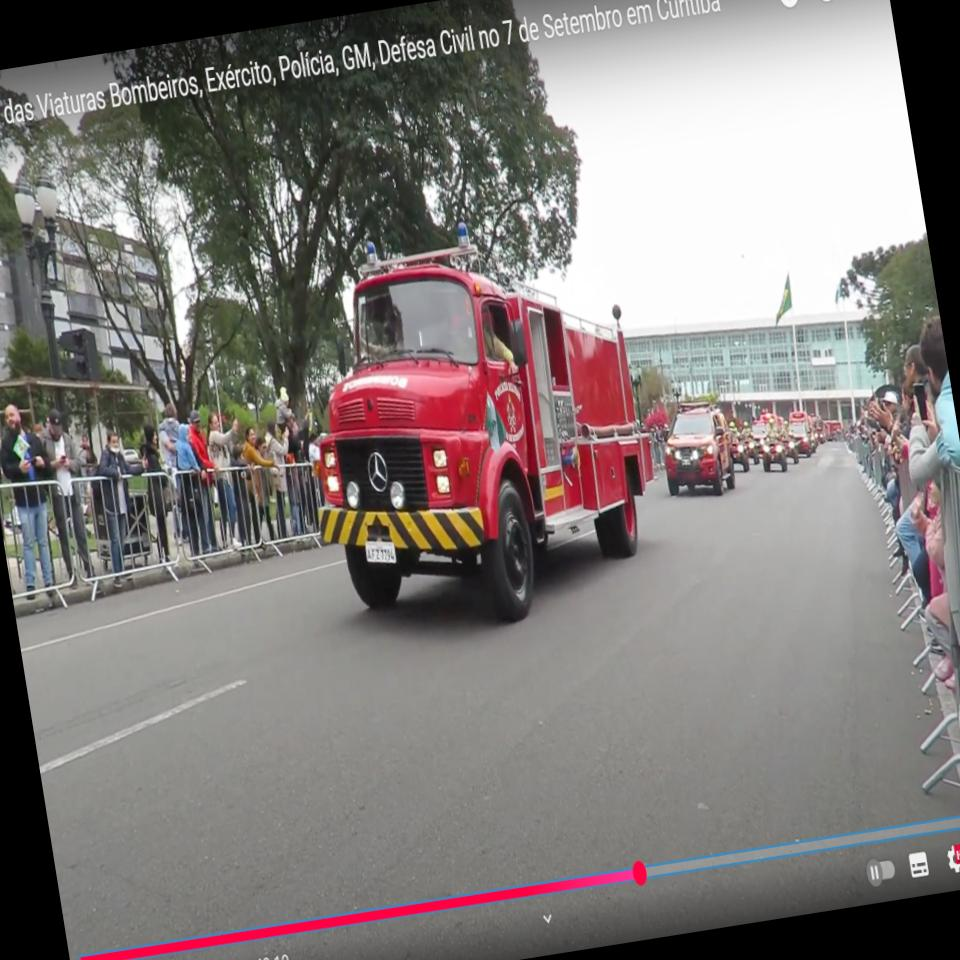viatura: (276, 198, 677, 645), (655, 395, 740, 503)
